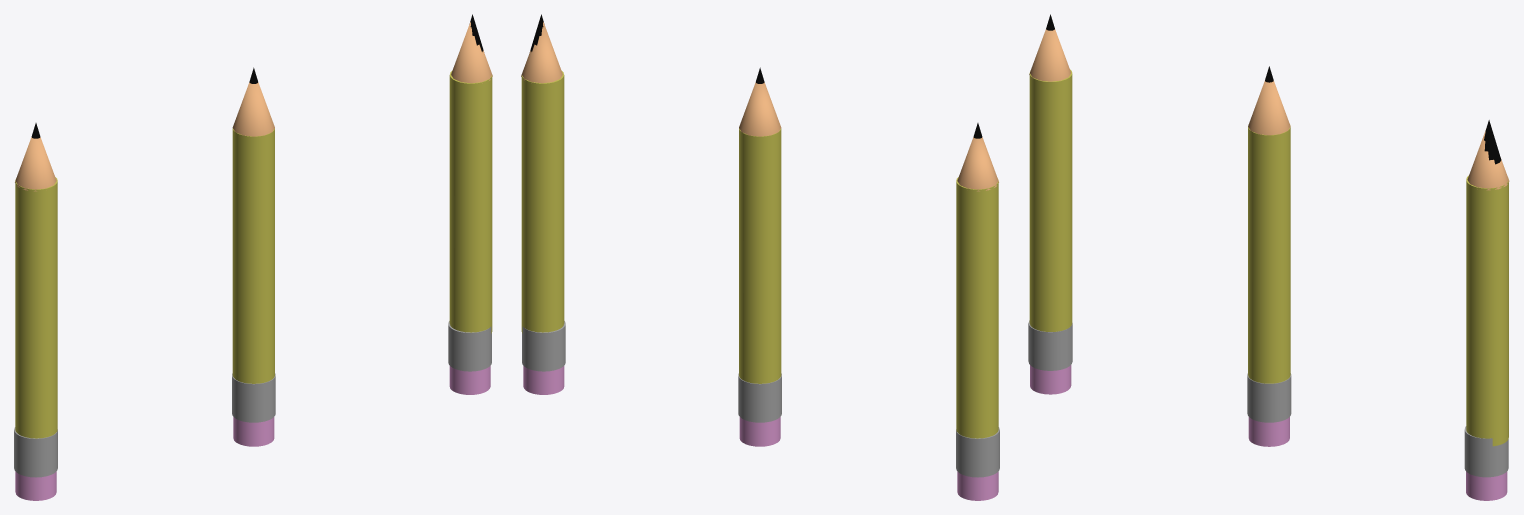
The model's file is pencil-model-scene-three.obj.
3 views of the same model, side by side, from view 1: azimuth 30°, elevation 25°; view 2: azimuth 150°, elevation 25°; view 3: azimuth 330°, elevation 25° (orthographic).
Visible parts, largest first — view 1: Cylinder, Cylinder1, Cylinder2, Cylinder5, Cylinder4, Cylinder3, Cone, Cone2, Cone1, Cylinder6, Cylinder8, Cylinder7; view 2: Cylinder, Cylinder1, Cylinder2, Cylinder5, Cylinder4, Cylinder3, Cone, Cone2, Cone1, Cylinder6, Cylinder8, Cylinder7; view 3: Cylinder1, Cylinder, Cylinder2, Cylinder3, Cylinder5, Cylinder4, Cone, Cone2, Cone1, Cylinder6, Cylinder8, Cylinder7.
Boxes of the visible parts, x1,y1,x2,y2 form: Cylinder: [449, 70, 492, 333]; Cylinder1: [15, 177, 57, 438]; Cylinder2: [232, 128, 274, 383]; Cylinder5: [14, 427, 57, 477]; Cylinder4: [448, 321, 491, 371]; Cylinder3: [232, 373, 275, 422]; Cone: [232, 82, 274, 136]; Cone2: [15, 137, 56, 191]; Cone1: [451, 22, 492, 83]; Cylinder6: [233, 417, 274, 446]; Cylinder8: [15, 471, 56, 500]; Cylinder7: [449, 366, 490, 394]; Cylinder: [521, 70, 564, 333]; Cylinder1: [956, 177, 998, 438]; Cylinder2: [739, 128, 781, 383]; Cylinder5: [956, 427, 999, 477]; Cylinder4: [522, 321, 565, 371]; Cylinder3: [738, 373, 781, 422]; Cone: [739, 82, 781, 136]; Cone2: [957, 137, 998, 191]; Cone1: [521, 22, 562, 83]; Cylinder6: [739, 417, 780, 446]; Cylinder8: [957, 471, 998, 500]; Cylinder7: [523, 366, 564, 394]; Cylinder1: [1029, 69, 1072, 331]; Cylinder: [1466, 175, 1508, 446]; Cylinder2: [1248, 127, 1290, 383]; Cylinder3: [1247, 373, 1291, 422]; Cylinder5: [1028, 320, 1072, 370]; Cylinder4: [1464, 426, 1508, 477]; Cone: [1248, 81, 1290, 135]; Cone2: [1029, 29, 1070, 81]; Cone1: [1467, 131, 1509, 190]; Cylinder6: [1248, 417, 1289, 446]; Cylinder8: [1030, 365, 1071, 394]; Cylinder7: [1466, 471, 1507, 500].
Bounding box in the file's own units: 3.85 × 2.89 × 0.31.
